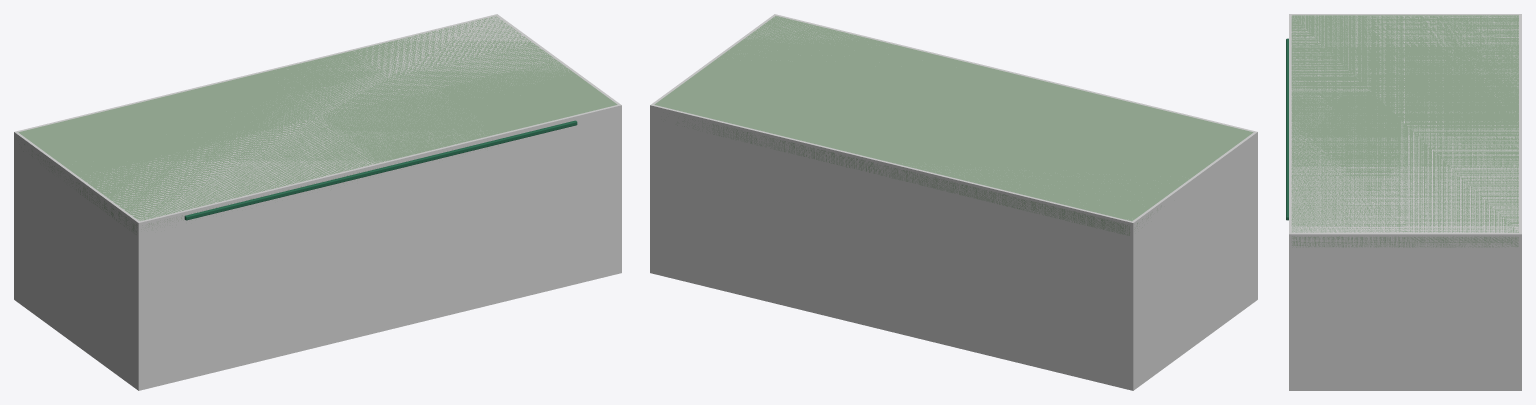
Rendered from conference-table_retail.glb.
3 views of the same model, side by side, from view 1: azimuth 30°, elevation 25°; view 2: azimuth 150°, elevation 25°; view 3: azimuth 270°, elevation 25° (orthographic). The views are drawn at different scales.
Parts seen in each view (by area): view 1: COL_conference-table, MESH_Top, MESH_TierTrim_01; view 2: COL_conference-table, MESH_Top; view 3: COL_conference-table, MESH_Top, MESH_TierTrim_01.
Boxes of the visible parts, x1,y1,x2,y2 form: COL_conference-table: [14, 14, 621, 390]; MESH_Top: [18, 16, 617, 234]; MESH_TierTrim_01: [184, 120, 577, 220]; COL_conference-table: [650, 14, 1257, 390]; MESH_Top: [654, 16, 1253, 235]; COL_conference-table: [1289, 14, 1521, 390]; MESH_Top: [1291, 15, 1518, 247]; MESH_TierTrim_01: [1286, 38, 1288, 220].
Size of the model in its own units: 2.35 by 0.78 by 1.06.
